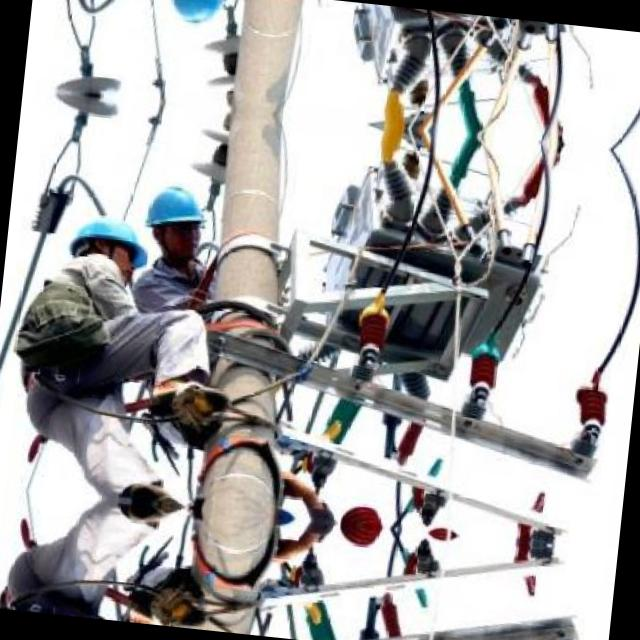helmet: (62, 210, 156, 286), (134, 176, 210, 266), (159, 0, 232, 35)
